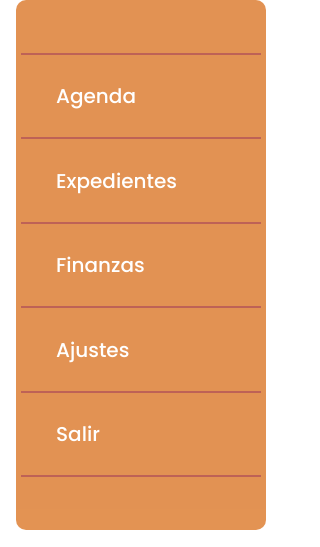
Test: MainMenu Component › should toggle expedientes dropdown on click
The image size is (320, 547).
Click the element showing "Expedientes" at x=116, y=180, box [56,166,177,194]
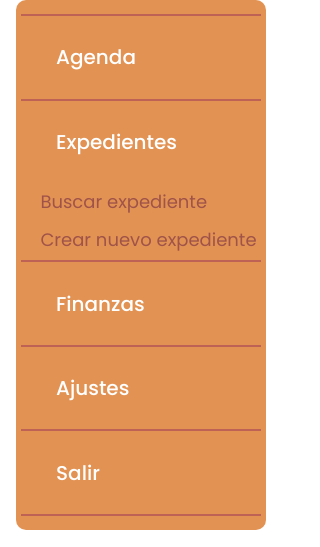
expect the element with class "dropdownContent" is shown: met, box [25,183,257,260]
